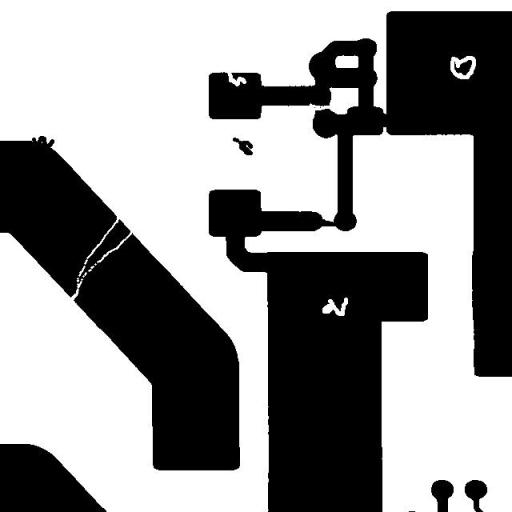copper: (225, 130, 260, 162)
mousebite: (216, 59, 254, 94)
open: (56, 206, 145, 312), (302, 96, 340, 118)
pin-hole: (442, 48, 484, 86), (314, 290, 356, 323)
short: (306, 210, 347, 234), (370, 104, 400, 134)
spur: (24, 128, 62, 155)
